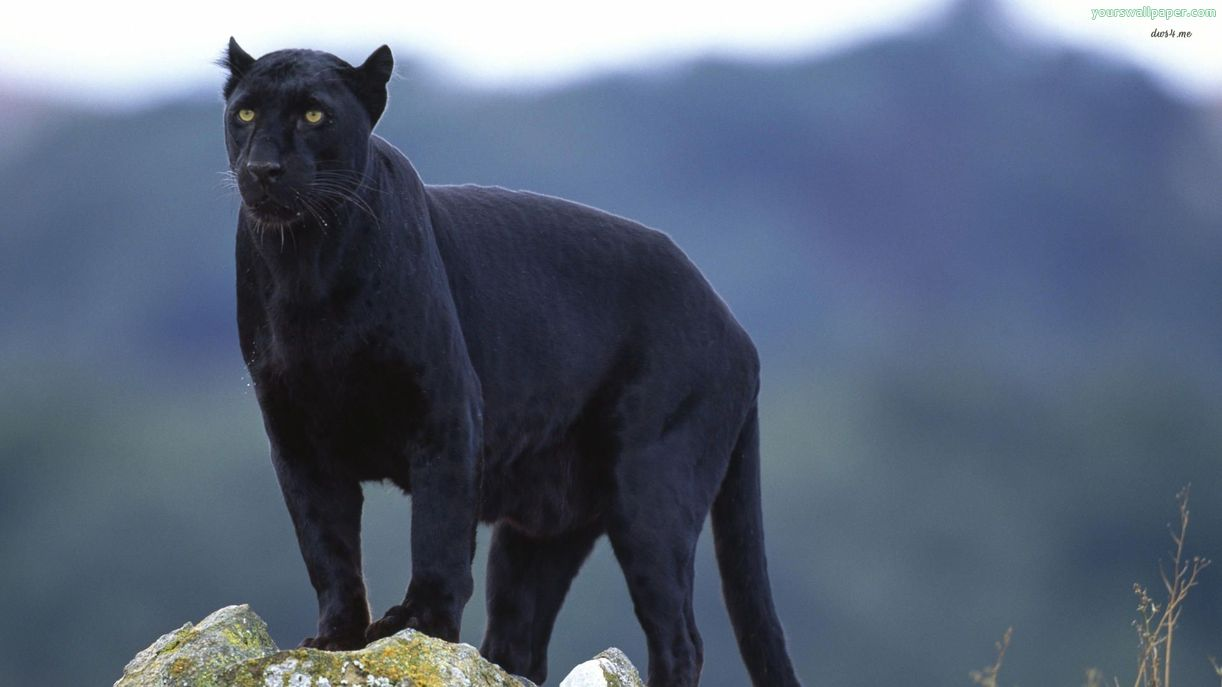panther: (218, 37, 825, 686)
